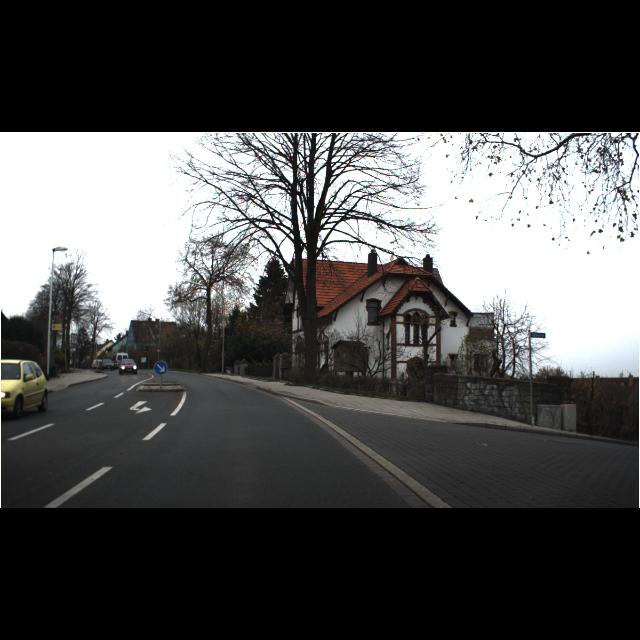mandatory: (154, 360, 168, 376)
